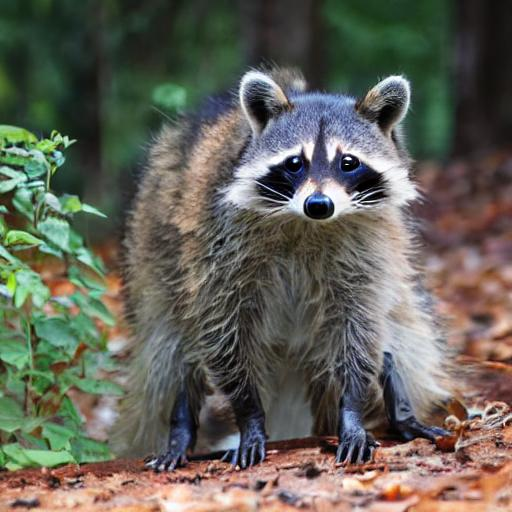raccoon: (108, 53, 458, 469)
